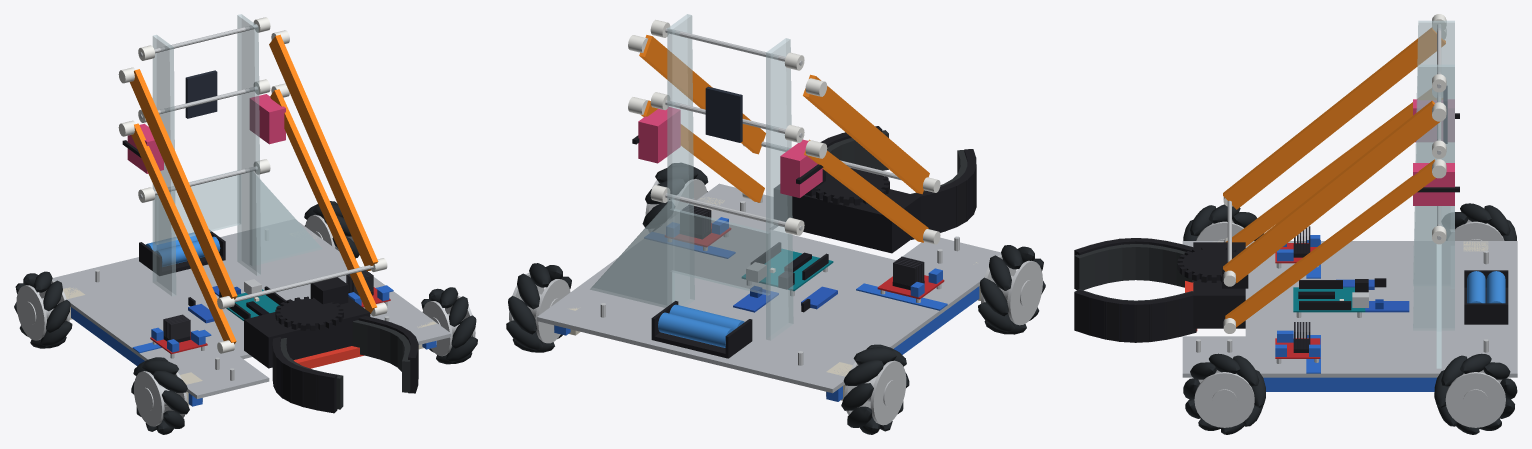
File: robotics_vehicle.glb
3 renders of one model, left to right at view 1: azimuth 30°, elevation 25°; view 2: azimuth 150°, elevation 25°; view 3: azimuth 270°, elevation 25°, orthographic. The views are drawn at different scales.
Parts seen in each view (by area): view 1: robotics_vehicle; view 2: robotics_vehicle; view 3: robotics_vehicle.
Part boxes in pixels (bbox=[...]): robotics_vehicle: bbox=[14, 14, 477, 434]; robotics_vehicle: bbox=[506, 14, 1045, 434]; robotics_vehicle: bbox=[1074, 14, 1517, 434].
Bounding box in the file's own units: 0.372 × 0.3291 × 0.4236.
